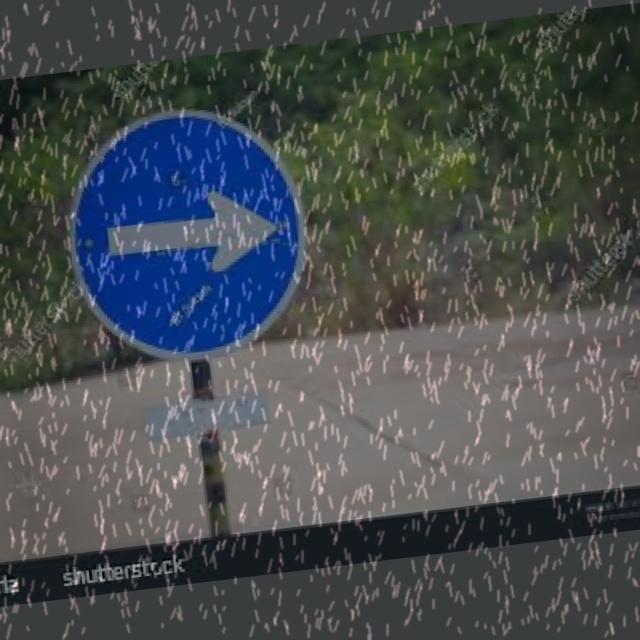Compulsory_Turn_Right: (64, 94, 321, 372)
